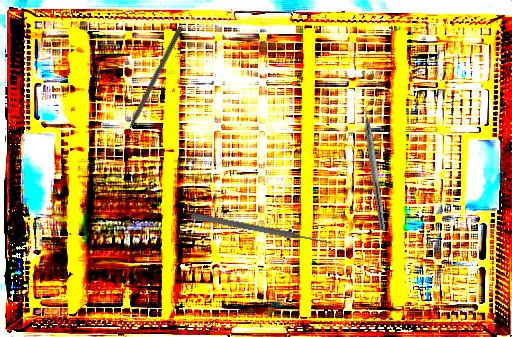Chopper: (358, 97, 396, 231)
Pusher: (116, 26, 184, 147), (190, 211, 333, 248)
